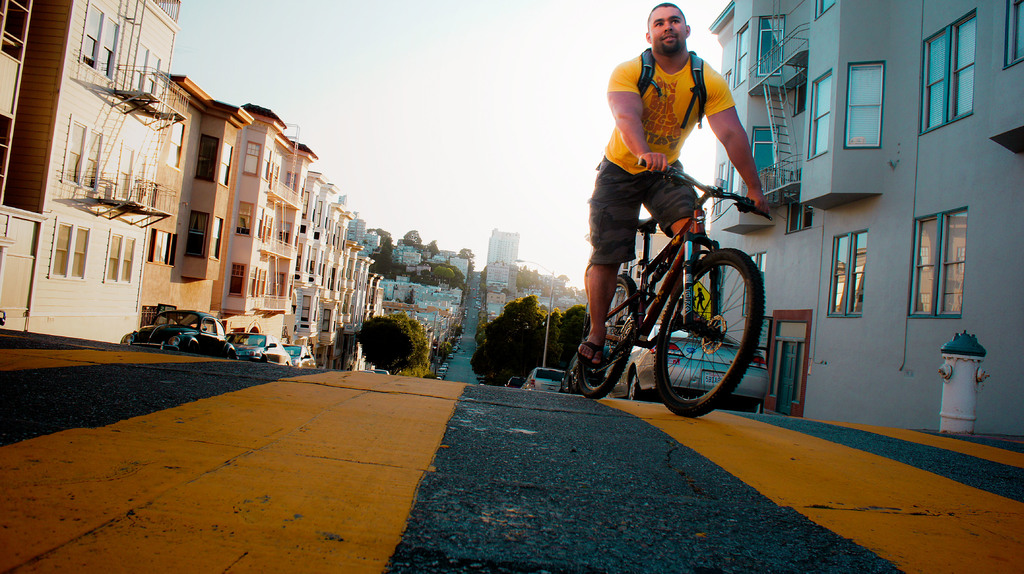Bike: (578, 158, 775, 428)
